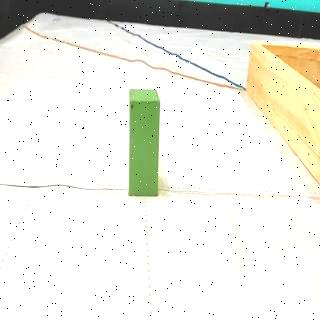greenbox: (124, 86, 162, 200)
